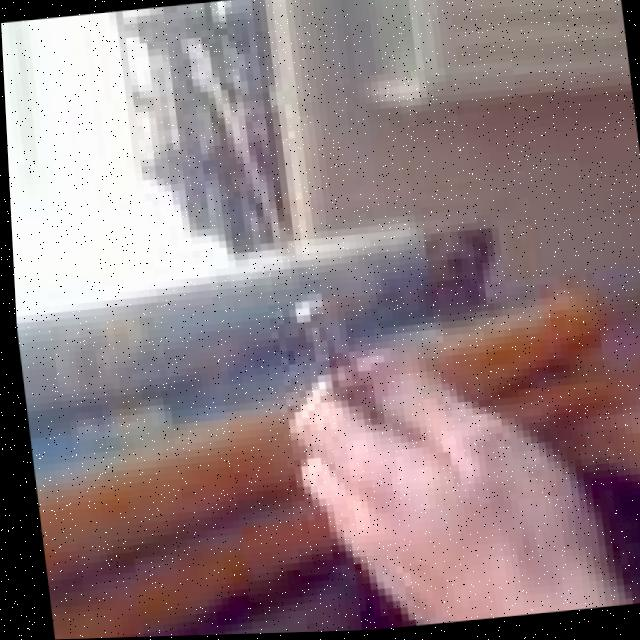knife: (126, 34, 342, 391)
